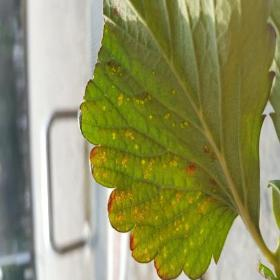Angular Leafspot: (85, 23, 225, 279)
